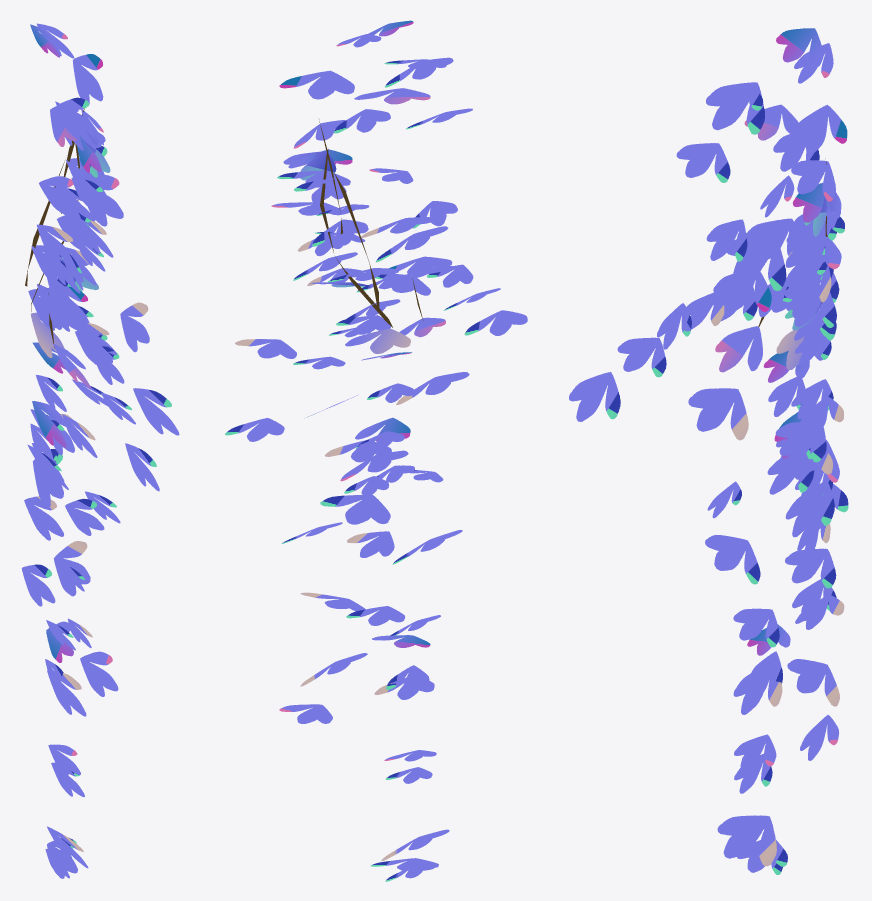
The model's file is SM_ivy_U_straight_B_LOD1.fbx.
3 renders of one model, left to right at view 1: azimuth 30°, elevation 25°; view 2: azimuth 150°, elevation 25°; view 3: azimuth 270°, elevation 25°, orthographic. The views are drawn at different scales.
Parts seen in each view (by area): view 1: SM_ivy_U_straight_B_LOD1; view 2: SM_ivy_U_straight_B_LOD1; view 3: SM_ivy_U_straight_B_LOD1.
Part boxes in pixels (x1,y1,x2,y2): SM_ivy_U_straight_B_LOD1: [21, 23, 179, 878]; SM_ivy_U_straight_B_LOD1: [225, 20, 527, 881]; SM_ivy_U_straight_B_LOD1: [569, 28, 848, 874].
Bounding box in the file's own units: 138 × 597 × 189.
